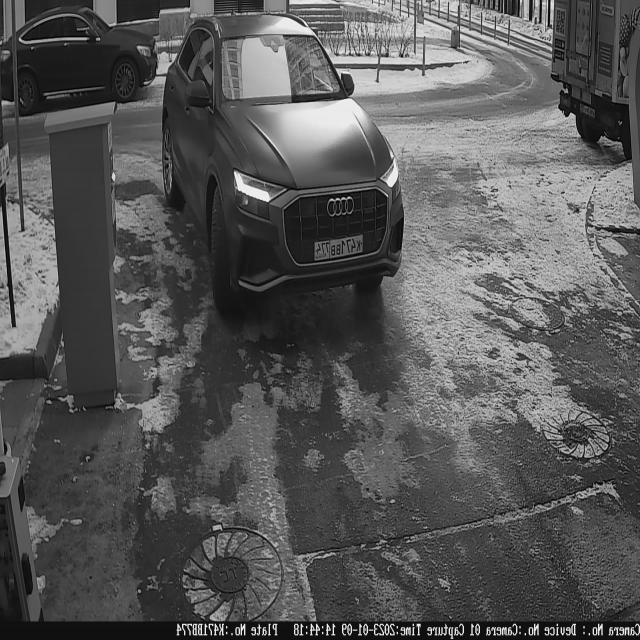car-plate-numbers: (312, 231, 367, 264)
